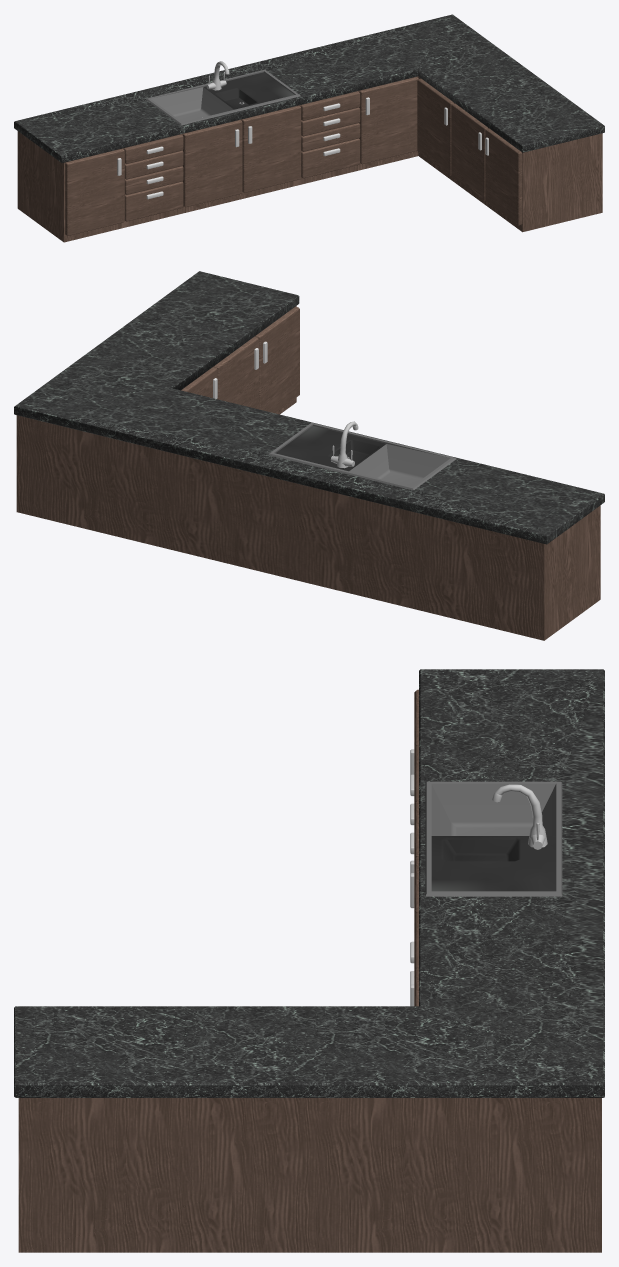
The model's file is kitchen_016.fbx.
The picture shows the model from 3 angles, top to bottom: view 1: azimuth 30°, elevation 25°; view 2: azimuth 150°, elevation 25°; view 3: azimuth 270°, elevation 25°; orthographic projection. The views are drawn at different scales.
Parts seen in each view (by area): view 1: kitchen_016; view 2: kitchen_016; view 3: kitchen_016.
Boxes of the visible parts, <box> form: kitchen_016: <box>14,14,604,242</box>; kitchen_016: <box>14,271,604,640</box>; kitchen_016: <box>14,669,604,1252</box>.
Bounding box in the file's own units: 548 × 329 × 141.
